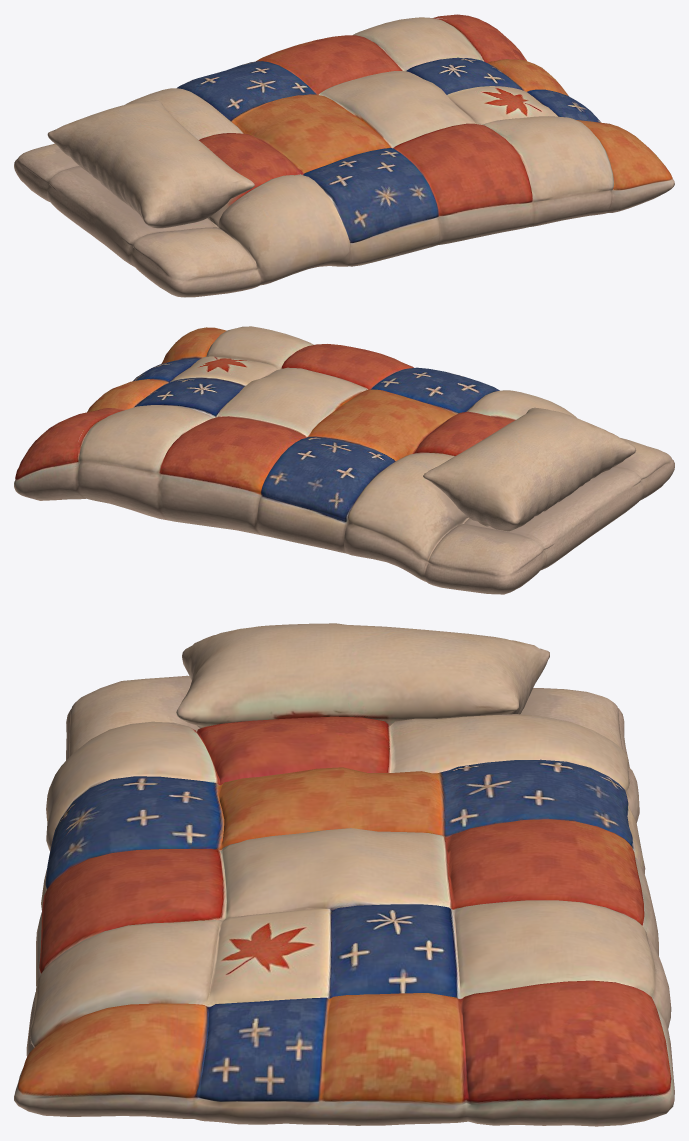
The model's file is futon.glb.
3 views of the same model, one above another, from view 1: azimuth 30°, elevation 25°; view 2: azimuth 150°, elevation 25°; view 3: azimuth 270°, elevation 25° (orthographic). The views are drawn at different scales.
Visible parts, largest first — view 1: tripo_node_ac6ddcdc-6e99-46c2-a0e6-897eaf4b5446; view 2: tripo_node_ac6ddcdc-6e99-46c2-a0e6-897eaf4b5446; view 3: tripo_node_ac6ddcdc-6e99-46c2-a0e6-897eaf4b5446.
Part boxes in pixels (bbox=[...]): tripo_node_ac6ddcdc-6e99-46c2-a0e6-897eaf4b5446: bbox=[14, 14, 674, 297]; tripo_node_ac6ddcdc-6e99-46c2-a0e6-897eaf4b5446: bbox=[14, 326, 674, 594]; tripo_node_ac6ddcdc-6e99-46c2-a0e6-897eaf4b5446: bbox=[14, 623, 674, 1126].
Size of the model in its own units: 0.9995 by 0.2007 by 0.7056.
1 material, 1 textured.
